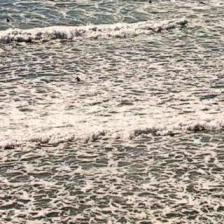surfer: (75, 76, 84, 82), (200, 1, 206, 5), (148, 0, 152, 5), (209, 0, 217, 2), (6, 18, 10, 22)
